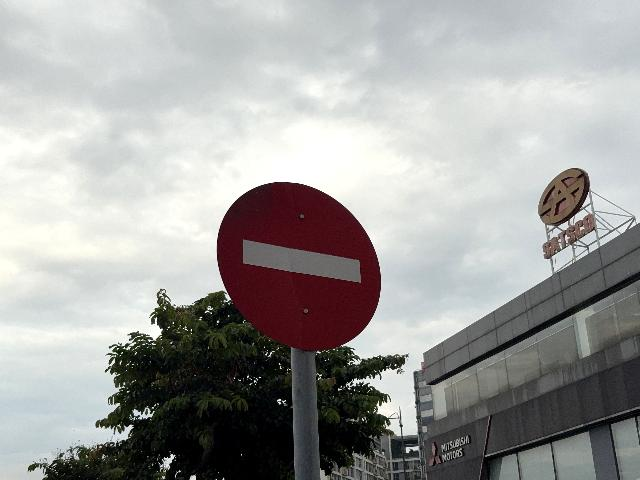cam-di-nguoc-chieu: (217, 182, 381, 350)
